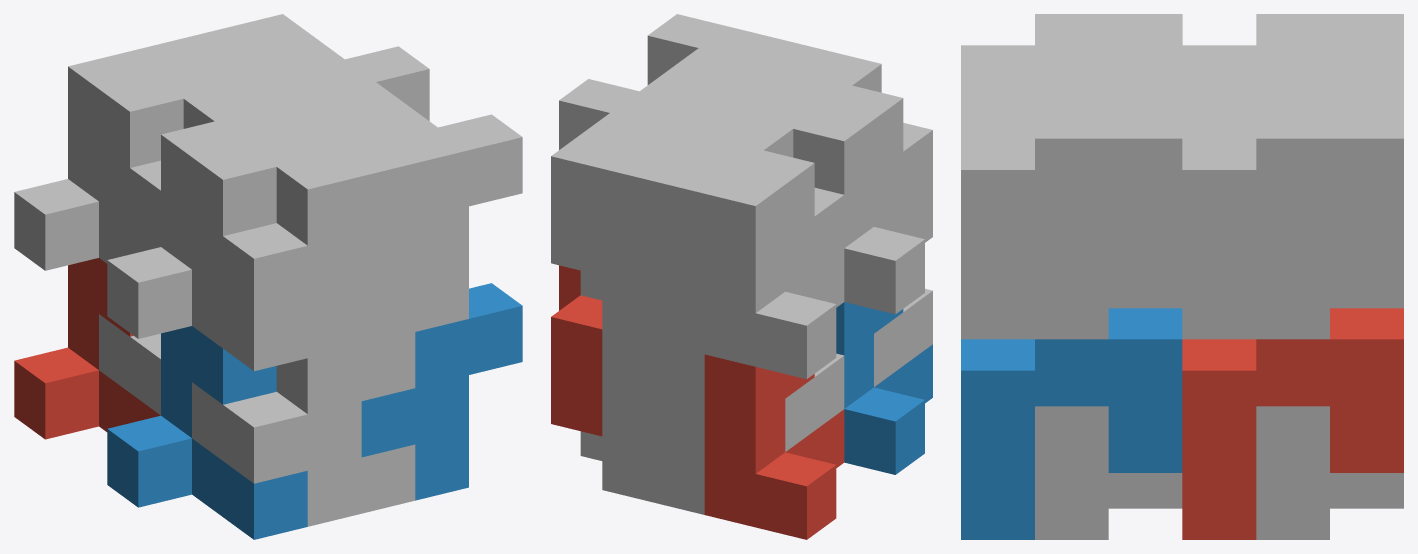
File: tiling.obj
The picture shows the model from 3 angles, left to right: view 1: azimuth 30°, elevation 25°; view 2: azimuth 150°, elevation 25°; view 3: azimuth 270°, elevation 25°; orthographic projection. The views are drawn at different scales.
Visible parts, largest first — view 1: copy_2_domain_4, copy_1_domain_4, copy_2_domain_8, copy_2_domain_2, copy_1_domain_2, copy_1_domain_3, copy_2_domain_6, copy_1_domain_1, copy_2_domain_3, copy_2_domain_7, copy_1_domain_8, copy_2_domain_1 (+2 smaller); view 2: copy_1_domain_3, copy_1_domain_1, copy_1_domain_4, copy_2_domain_3, copy_1_domain_7, copy_2_domain_7, copy_1_domain_5, copy_1_domain_2, copy_2_domain_4, copy_2_domain_1, copy_2_domain_5, copy_2_domain_8 (+2 smaller); view 3: copy_2_domain_7, copy_2_domain_8, copy_2_domain_5, copy_2_domain_6, copy_1_domain_7, copy_1_domain_8, copy_1_domain_5, copy_1_domain_6, copy_2_domain_3, copy_2_domain_4, copy_1_domain_3, copy_1_domain_4.
Boxes of the visible parts, box(x1,y1,x2,y2) form: copy_2_domain_4: box(192, 108, 415, 357); copy_1_domain_4: box(107, 121, 307, 371); copy_2_domain_8: box(322, 82, 522, 331); copy_2_domain_2: box(192, 332, 415, 526); copy_1_domain_2: box(107, 326, 307, 539); copy_1_domain_3: box(14, 53, 183, 270); copy_2_domain_6: box(361, 283, 522, 500); copy_1_domain_1: box(14, 258, 160, 439); copy_2_domain_3: box(99, 40, 321, 246); copy_2_domain_7: box(229, 14, 429, 120); copy_1_domain_8: box(269, 95, 415, 344); copy_2_domain_1: box(99, 314, 160, 415); copy_1_domain_3: box(704, 150, 844, 379); copy_1_domain_1: box(704, 354, 844, 539); copy_1_domain_4: box(793, 85, 932, 314); copy_2_domain_3: box(653, 104, 844, 300); copy_1_domain_7: box(580, 125, 711, 354); copy_2_domain_7: box(551, 79, 690, 275); copy_1_domain_5: box(580, 329, 704, 514); copy_1_domain_2: box(836, 302, 932, 474); copy_2_domain_4: box(742, 39, 932, 226); copy_2_domain_1: box(653, 342, 844, 461); copy_2_domain_5: box(551, 265, 602, 436); copy_2_domain_8: box(640, 14, 778, 103); copy_2_domain_7: box(1182, 107, 1403, 339); copy_2_domain_8: box(961, 107, 1182, 339); copy_2_domain_5: box(1182, 308, 1403, 539); copy_2_domain_6: box(961, 308, 1182, 539); copy_1_domain_7: box(1256, 76, 1403, 339); copy_1_domain_8: box(1035, 76, 1182, 339); copy_1_domain_5: box(1256, 406, 1403, 539); copy_1_domain_6: box(1035, 406, 1182, 539); copy_2_domain_3: box(1182, 45, 1403, 107); copy_2_domain_4: box(961, 45, 1182, 107); copy_1_domain_3: box(1256, 14, 1403, 45); copy_1_domain_4: box(1035, 14, 1182, 45).
Size of the model in its own units: 6 by 6 by 6.
